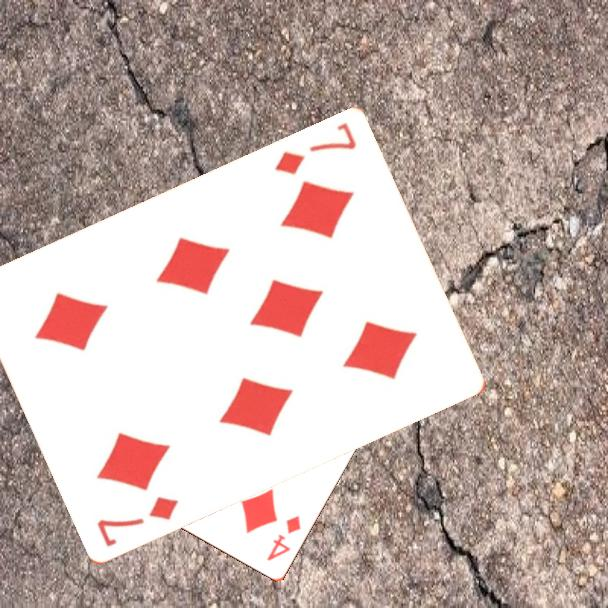d04: (263, 512, 304, 564)
d07: (271, 118, 360, 178), (93, 492, 182, 549)
